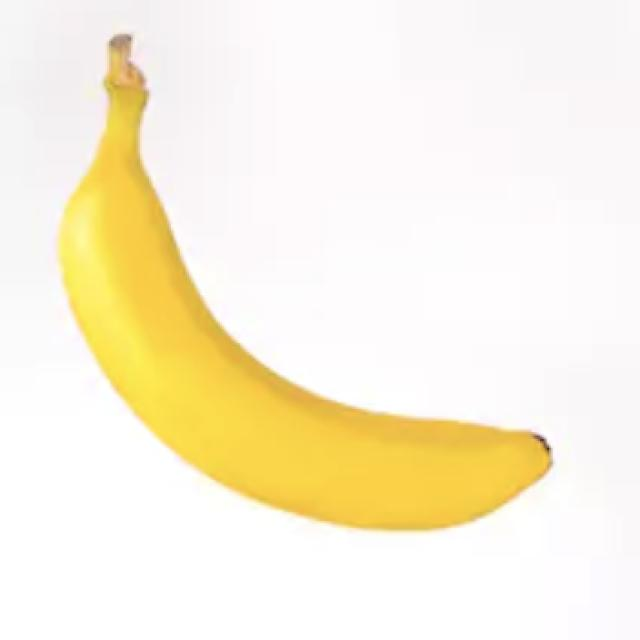fresh-banana: (55, 30, 552, 532)
